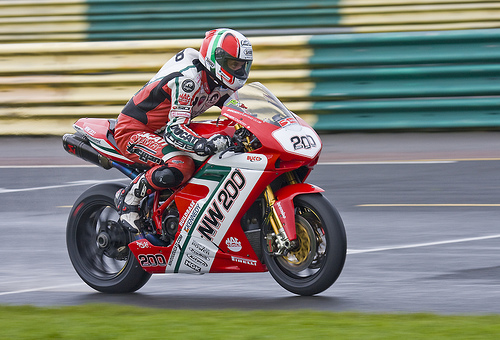helmet: (196, 24, 256, 90)
